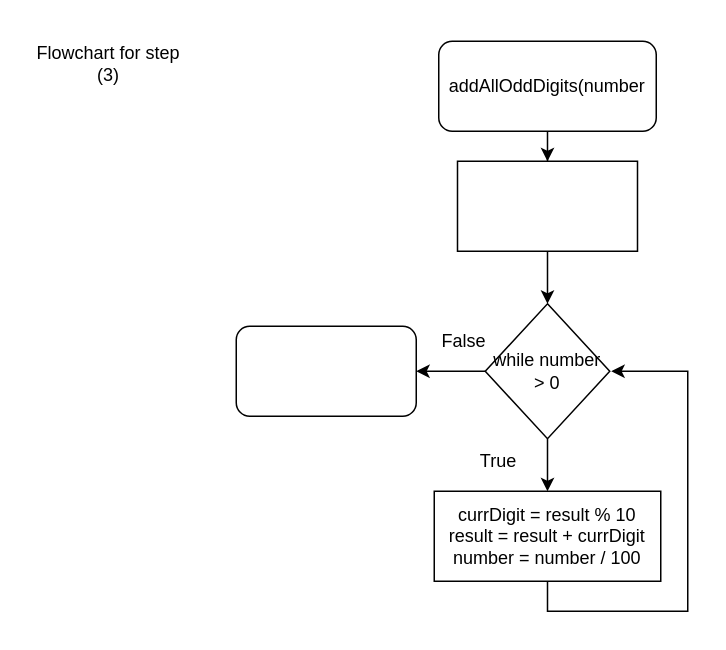
Image size: 726x650. Some labels were removed from this diagram. The box of each missing label's shape, as (x1, y1, x2, y2) in pixels:
result := 0: (456, 160, 638, 251)
return result: (235, 325, 416, 416)
